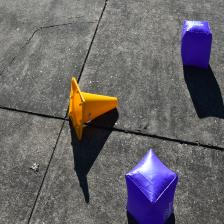cone: (68, 77, 118, 140)
cube: (125, 149, 178, 224), (181, 20, 212, 70)
